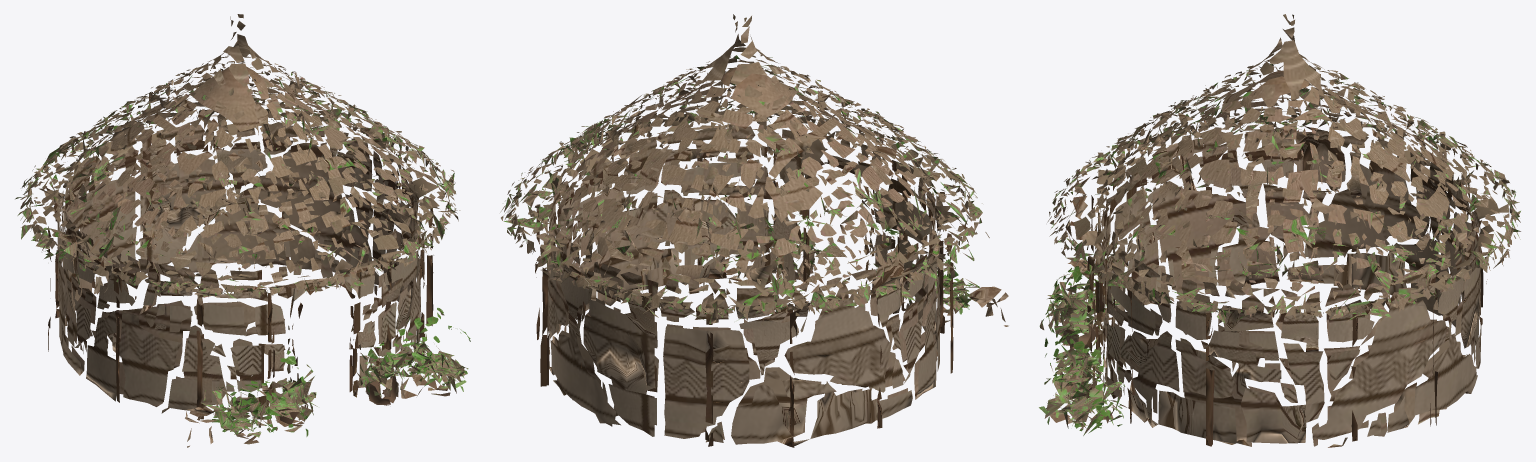
Rendered from tropenhuette.glb.
The picture shows the model from 3 angles, left to right: view 1: azimuth 30°, elevation 25°; view 2: azimuth 150°, elevation 25°; view 3: azimuth 270°, elevation 25°; orthographic projection. The views are drawn at different scales.
Bounding box in the file's own units: 1.84 × 1.49 × 1.85.
Materials: 1 (1 with a texture image).
